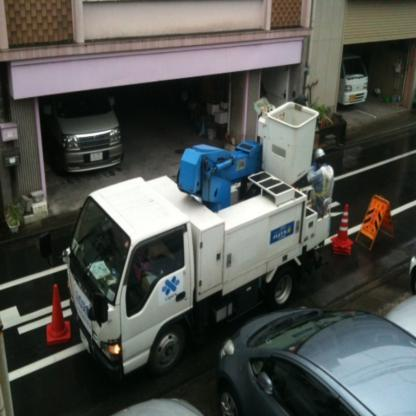truck: (71, 160, 338, 390), (46, 86, 124, 178), (336, 54, 368, 110)
